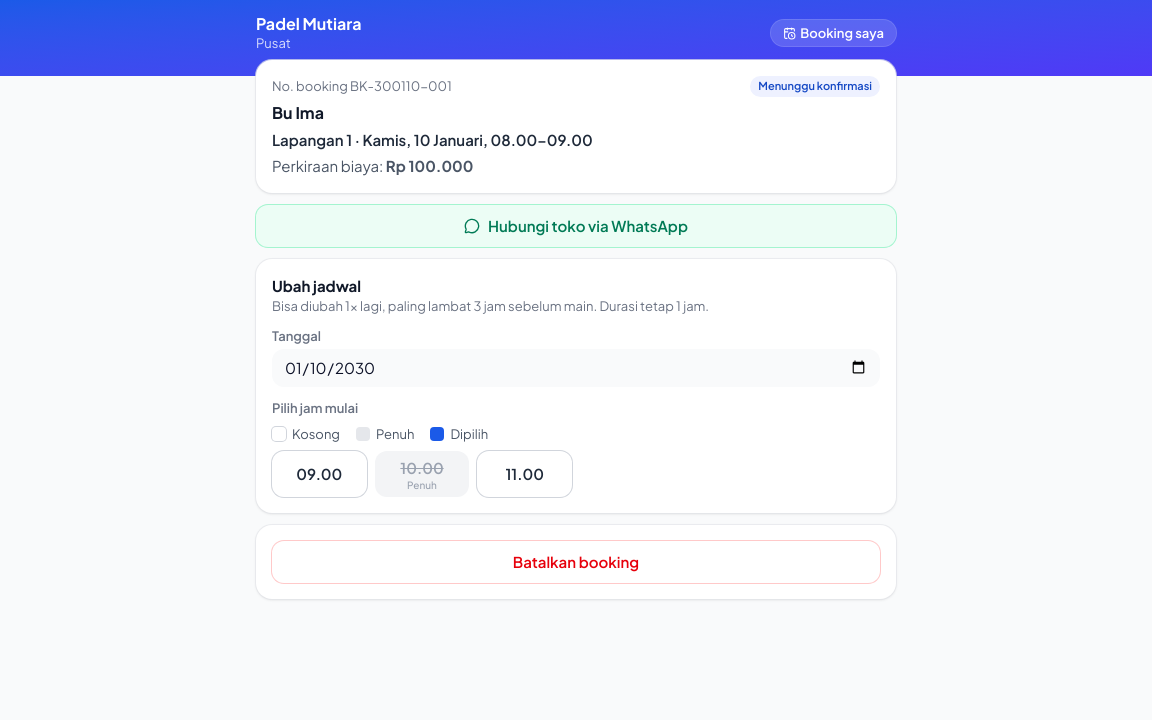
Test case: offers only free slots other than the current one, previews the price, then moves
This screenshot has width=1152, height=720.
Click the button "09.00" at (319, 474), box [272,450,367,497]
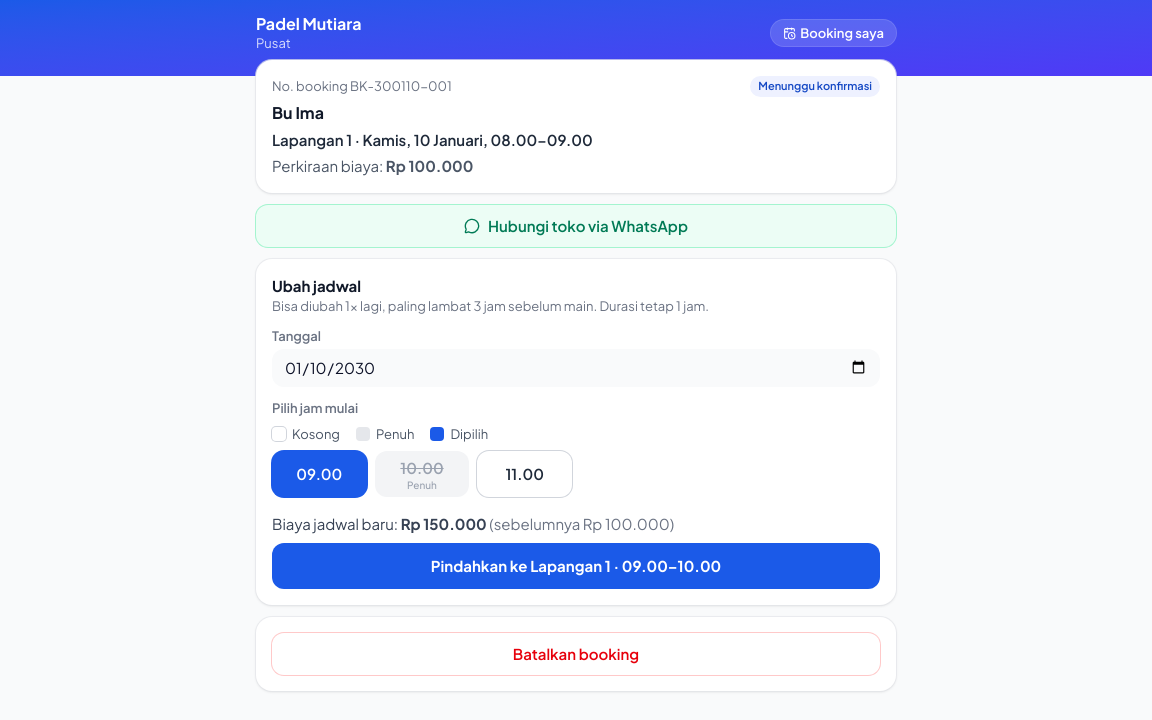
expect the text "Biaya jadwal baru" is shown: met, box [272,514,394,533]
Click the button "Pindahkan ke Lapangan 1 · 09.00–10.00" at (576, 566), box [272,543,880,589]
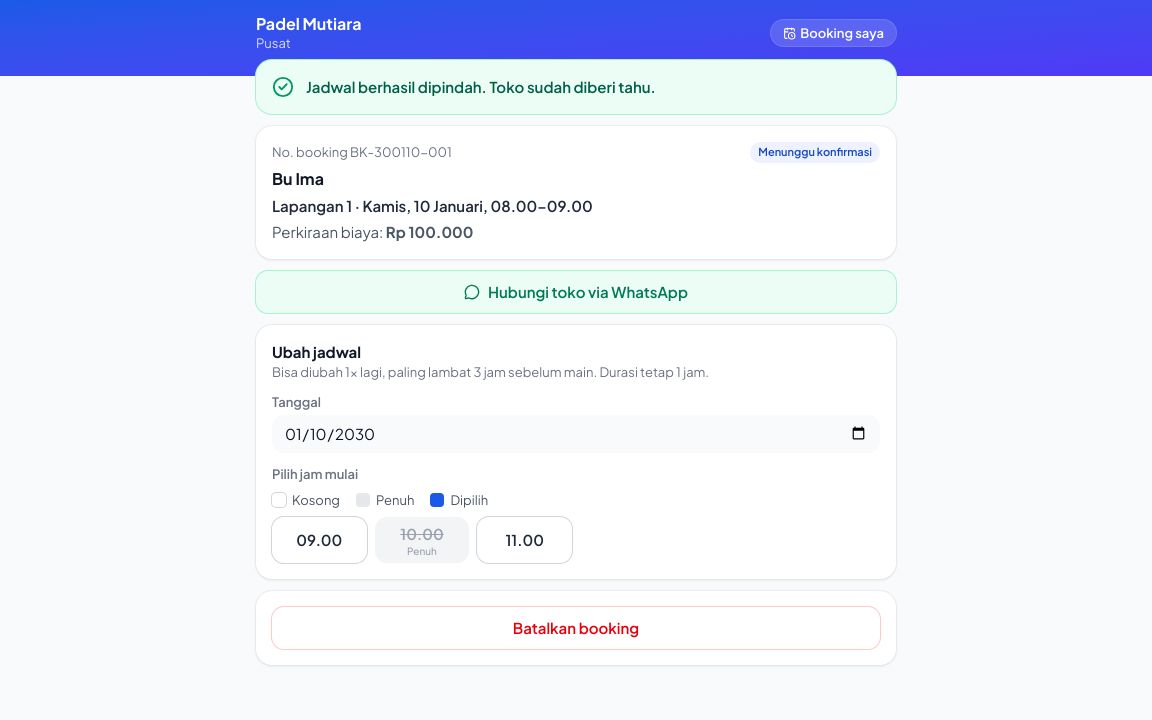
expect the text "Jadwal berhasil dipindah. Toko sudah diberi tahu." is shown: met, box [306,76,656,98]
